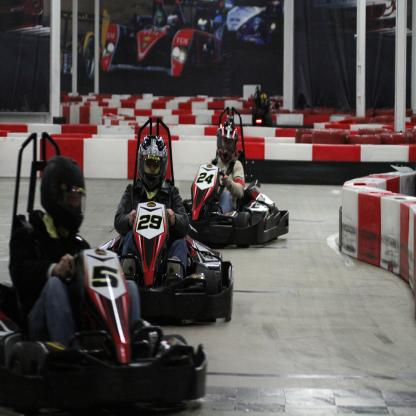Helmet: (38, 156, 87, 238), (132, 125, 172, 195), (215, 119, 238, 165), (152, 9, 166, 31)
